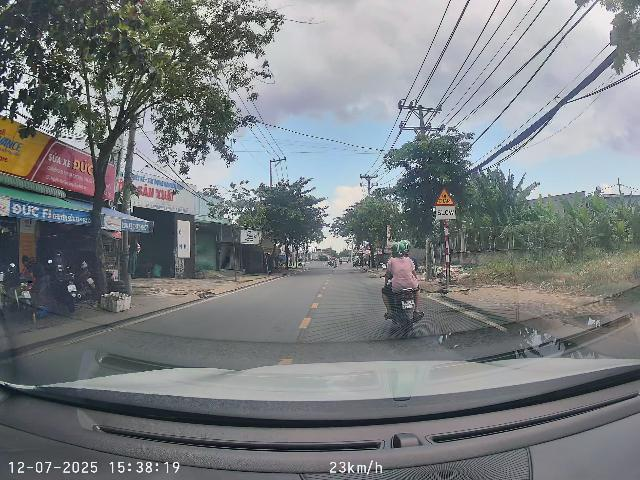245-di-cham: (434, 186, 455, 206)
